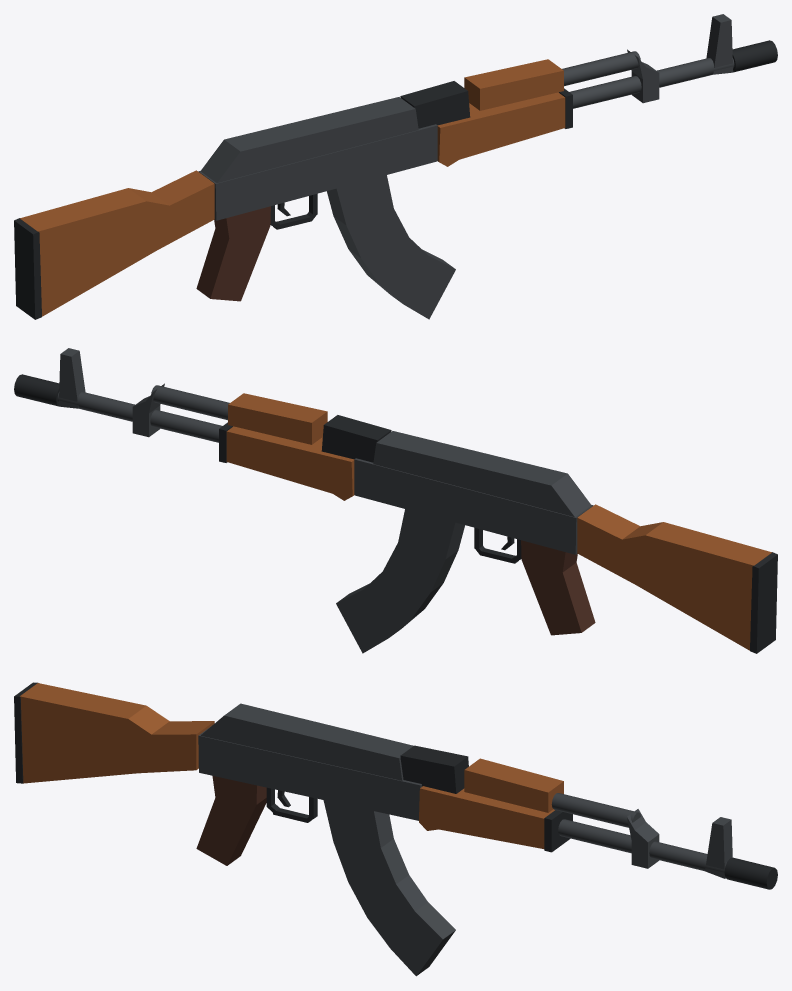
The picture shows the model from 3 angles, top to bottom: view 1: azimuth 30°, elevation 25°; view 2: azimuth 150°, elevation 25°; view 3: azimuth 330°, elevation 25°; orthographic projection.
Parts seen in each view (by area): view 1: G_01_____, G_07___, G_03___, G_04_____, G_08_______, G_06____, G_09_______, G_02________, G_10___, G_05______, G_12_____, G_14______ (+2 smaller); view 2: G_01_____, G_07___, G_03___, G_04_____, G_08_______, G_06____, G_09_______, G_02________, G_10___, G_05______, G_12_____, G_14______ (+2 smaller); view 3: G_01_____, G_07___, G_03___, G_04_____, G_08_______, G_06____, G_09_______, G_10___, G_05______, G_12_____, G_14______, G_11___ (+3 smaller).
Boxes of the visible parts, bbox=[...] form: G_01_____: bbox=[20, 170, 214, 316]; G_07___: bbox=[327, 175, 455, 319]; G_03___: bbox=[198, 124, 437, 220]; G_04_____: bbox=[200, 97, 418, 182]; G_08_______: bbox=[437, 92, 565, 166]; G_06____: bbox=[196, 206, 270, 301]; G_09_______: bbox=[464, 59, 563, 110]; G_02________: bbox=[14, 218, 41, 319]; G_10___: bbox=[569, 58, 734, 108]; G_05______: bbox=[400, 81, 470, 128]; G_12_____: bbox=[562, 51, 640, 86]; G_14______: bbox=[706, 14, 733, 74]; G_01_____: bbox=[577, 504, 771, 650]; G_07___: bbox=[336, 509, 464, 653]; G_03___: bbox=[354, 458, 593, 554]; G_04_____: bbox=[373, 431, 591, 516]; G_08_______: bbox=[226, 426, 354, 500]; G_06____: bbox=[521, 540, 595, 635]; G_09_______: bbox=[228, 393, 327, 444]; G_02________: bbox=[750, 552, 777, 653]; G_10___: bbox=[57, 392, 222, 442]; G_05______: bbox=[321, 415, 391, 462]; G_12_____: bbox=[151, 385, 229, 420]; G_14______: bbox=[58, 348, 85, 408]; G_01_____: bbox=[20, 683, 214, 783]; G_07___: bbox=[323, 800, 455, 976]; G_03___: bbox=[198, 726, 422, 820]; G_04_____: bbox=[201, 703, 413, 780]; G_08_______: bbox=[419, 786, 554, 848]; G_06____: bbox=[196, 775, 266, 865]; G_09_______: bbox=[464, 758, 563, 812]; G_10___: bbox=[558, 819, 726, 872]; G_05______: bbox=[400, 745, 468, 793]; G_12_____: bbox=[551, 793, 640, 827]; G_14______: bbox=[705, 817, 732, 878]; G_11___: bbox=[724, 857, 777, 889].
Bounding box in the file's own units: 0.994 × 0.2835 × 0.049.
